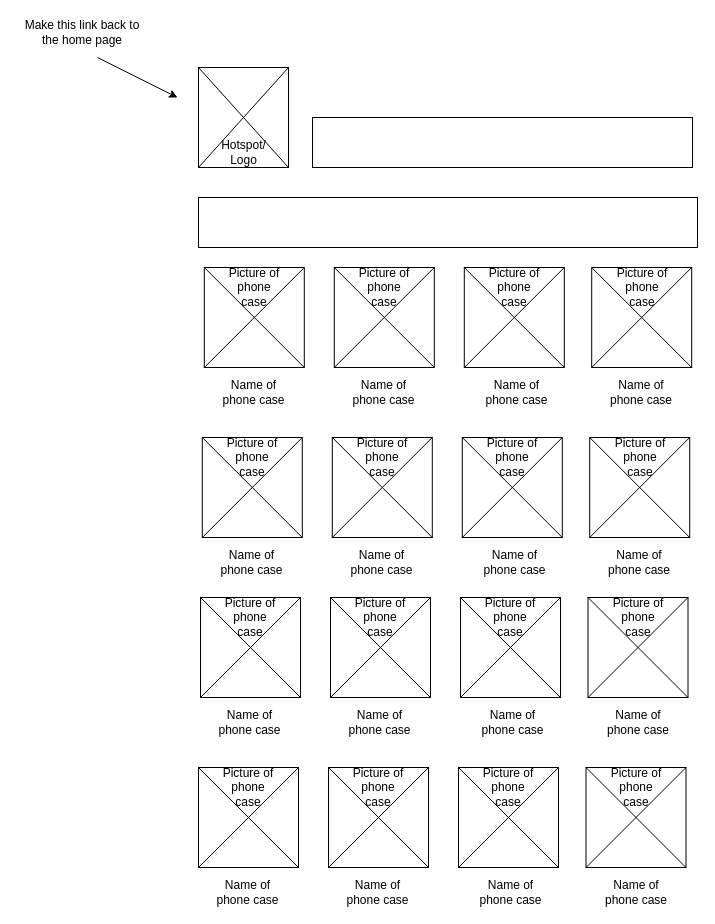
Some shapes in this 715 by 924 pixel diagram are drawn without their labels. The shapes that lost their labels are listed below. From the top down, each one's centre as x and y in pixels, then its label:
At [502,142]: "Search bar".
At [448,222]: "Nav bar".
